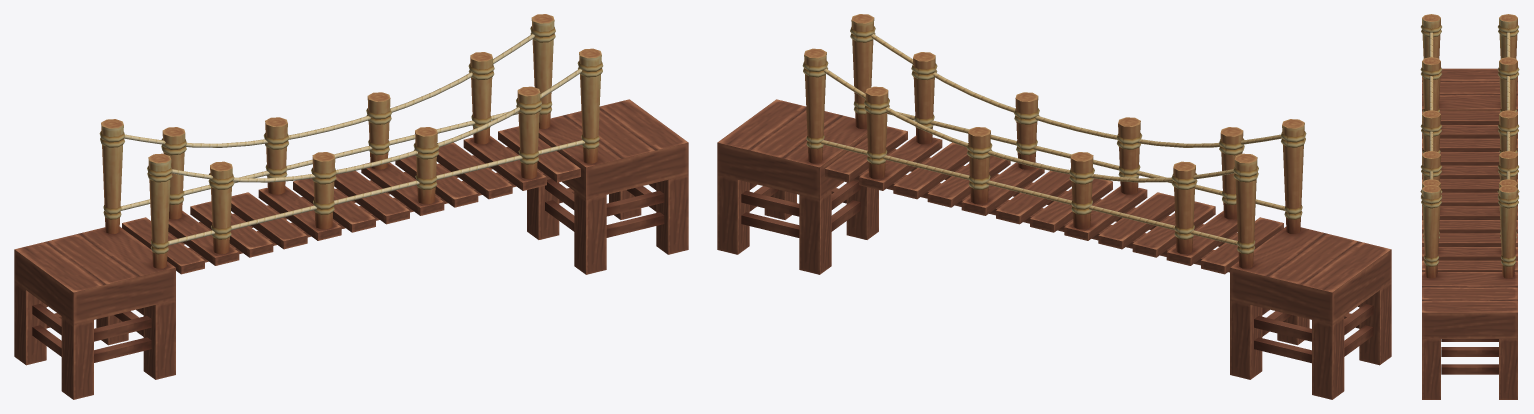
File: Suspension bridge W6.fbx
3 views of the same model, side by side, from view 1: azimuth 30°, elevation 25°; view 2: azimuth 150°, elevation 25°; view 3: azimuth 270°, elevation 25° (orthographic). The views are drawn at different scales.
Parts seen in each view (by area): view 1: suspensionBridge_W6; view 2: suspensionBridge_W6; view 3: suspensionBridge_W6.
Part boxes in pixels (bbox=[...]): suspensionBridge_W6: bbox=[14, 14, 688, 399]; suspensionBridge_W6: bbox=[717, 14, 1391, 399]; suspensionBridge_W6: bbox=[1420, 14, 1519, 399].
Size of the model in its own units: 6 by 2 by 1.03.
